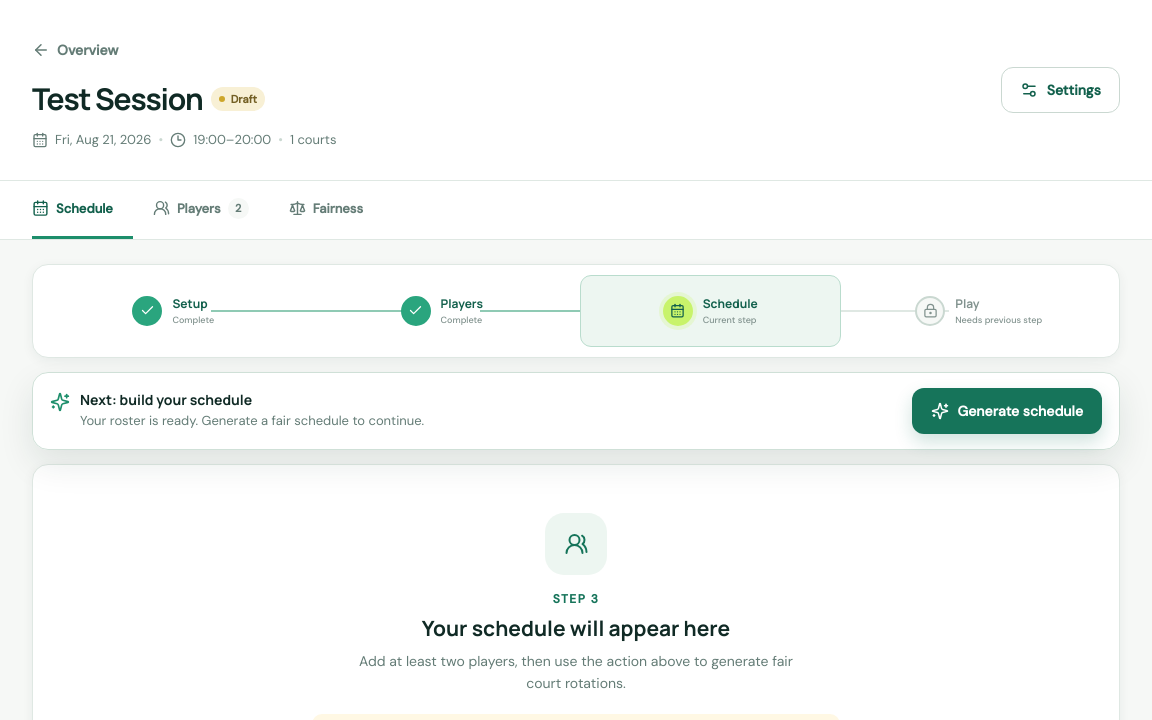
SessionPage lifecycle › opens settings and saves editable session details
Click the button "Settings". click: (1060, 90)
box: [1001,67,1120,113]
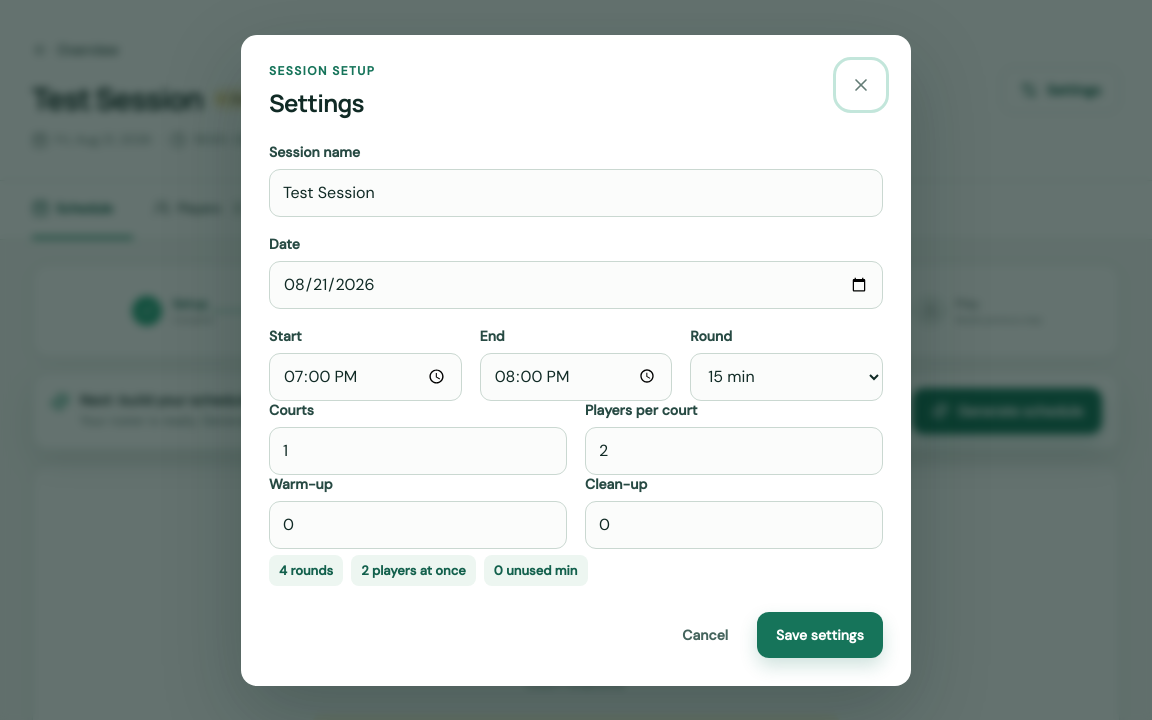
Replace the text in the field labelled "Session name" with "Updated Session". click: (576, 192)
box: [269,168,883,216]
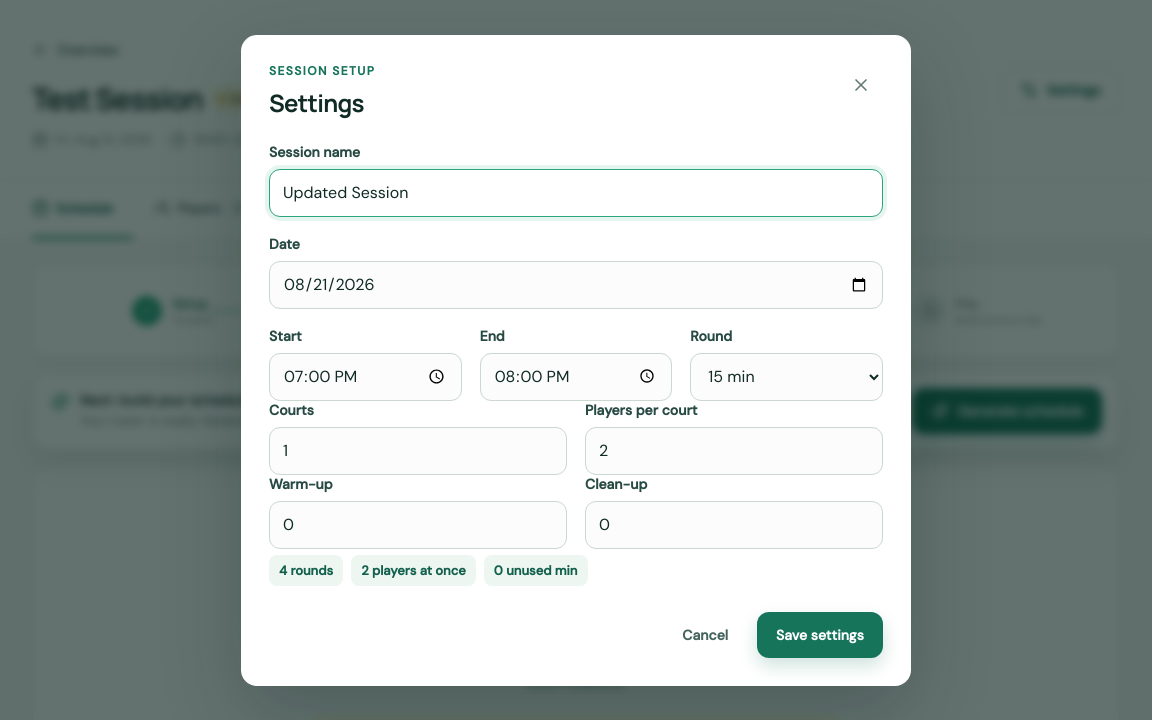
Click the button "Save settings". click: (820, 634)
box: [757,612,883,658]
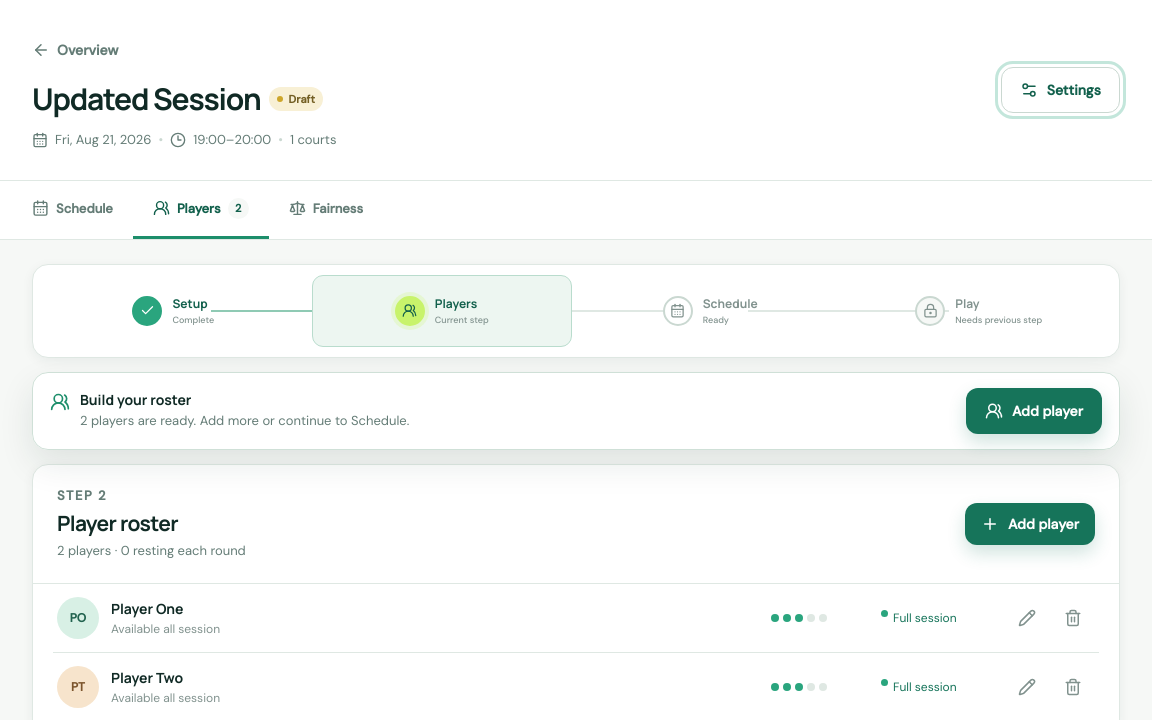
Result: the heading "Updated Session" is shown at [32,82,261,116]
